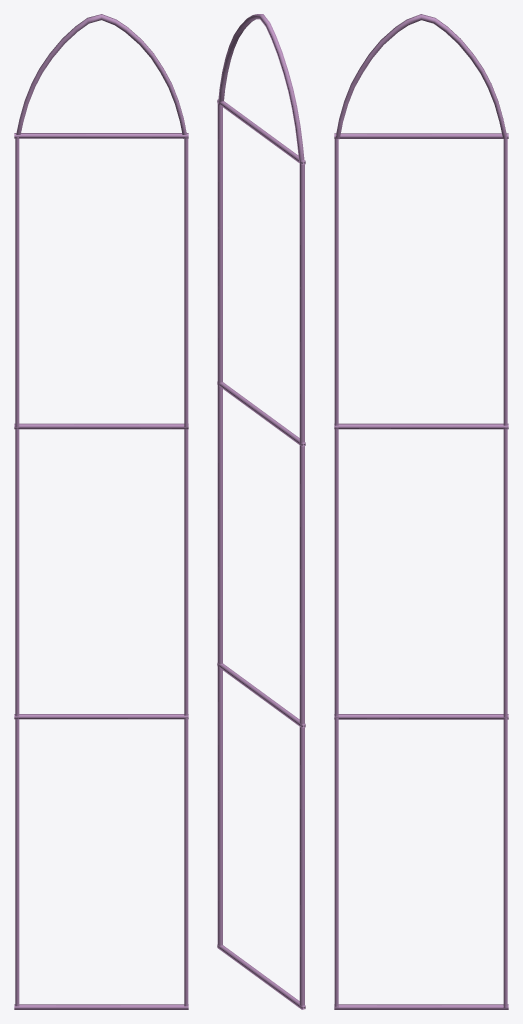
File: StainedGlass_Metal_x3_Lod0.fbx
The picture shows the model from 3 angles, left to right: view 1: azimuth 90°, elevation 25°; view 2: azimuth 210°, elevation 25°; view 3: azimuth 270°, elevation 25°; orthographic projection. The views are drawn at different scales.
Parts seen in each view (by area): view 1: StainedGlass_Metal_x3_Lod0; view 2: StainedGlass_Metal_x3_Lod0; view 3: StainedGlass_Metal_x3_Lod0.
Boxes of the visible parts, x1,y1,x2,y2 form: StainedGlass_Metal_x3_Lod0: (14, 14, 188, 1009); StainedGlass_Metal_x3_Lod0: (217, 14, 305, 1009); StainedGlass_Metal_x3_Lod0: (334, 14, 508, 1009).
Size of the model in its own units: 4.93 by 1027 by 163.
